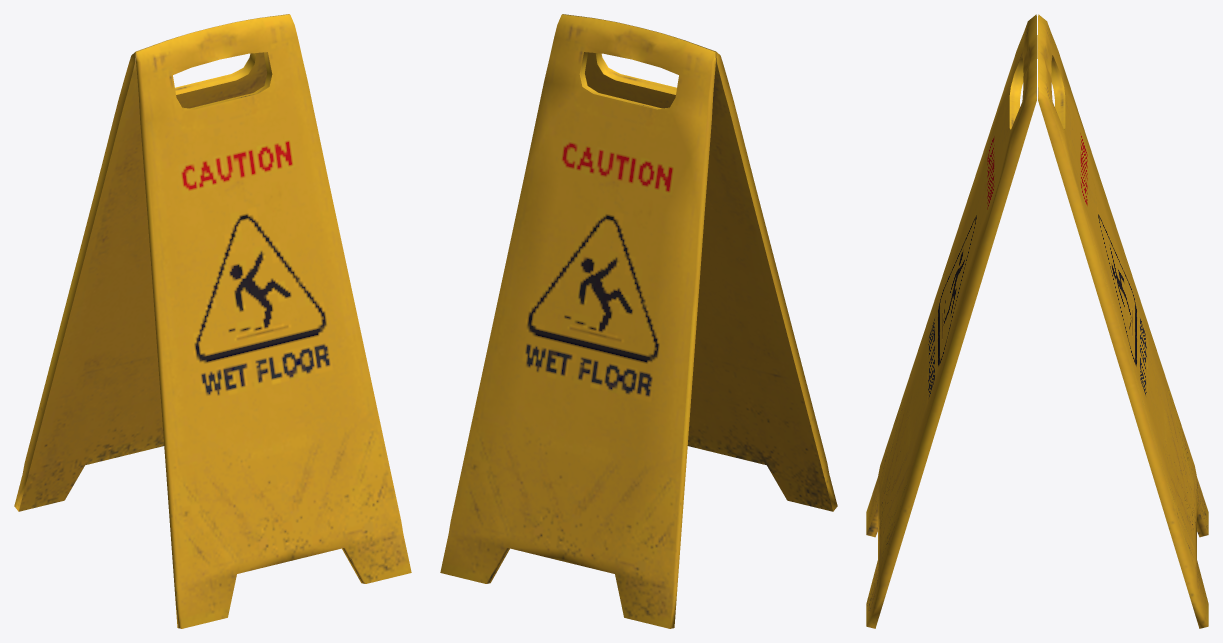
Rendered from 173_CautionSign.fbx.
3 views of the same model, side by side, from view 1: azimuth 30°, elevation 25°; view 2: azimuth 150°, elevation 25°; view 3: azimuth 270°, elevation 25° (orthographic). The views are drawn at different scales.
Visible parts, largest first — view 1: LOD_1_Group_0_Sub_1__sm30_173_CautionSign01A_A_Mat; view 2: LOD_1_Group_0_Sub_1__sm30_173_CautionSign01A_A_Mat; view 3: LOD_1_Group_0_Sub_1__sm30_173_CautionSign01A_A_Mat.
Boxes of the visible parts, left/top/right/bottom form: LOD_1_Group_0_Sub_1__sm30_173_CautionSign01A_A_Mat: left=14, top=14, right=411, bottom=628; LOD_1_Group_0_Sub_1__sm30_173_CautionSign01A_A_Mat: left=440, top=14, right=837, bottom=628; LOD_1_Group_0_Sub_1__sm30_173_CautionSign01A_A_Mat: left=866, top=14, right=1208, bottom=628.
Bounding box in the file's own units: 0.4 × 0.8559 × 0.5055.
